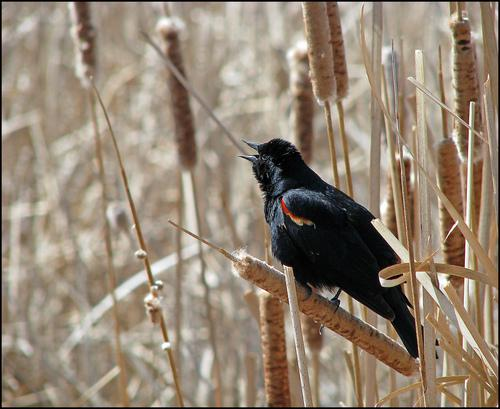010.Red_winged_Blackbird: (235, 135, 441, 362)
